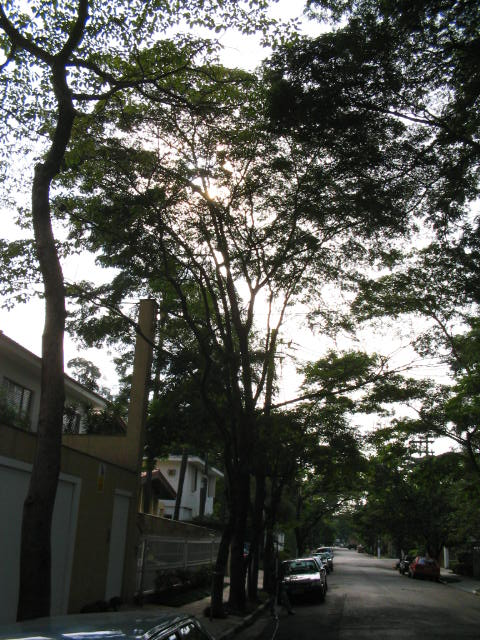crown: (50, 33, 445, 362)
tree: (51, 31, 445, 615)
